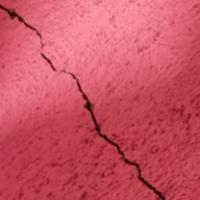crack: (0, 2, 165, 199)
